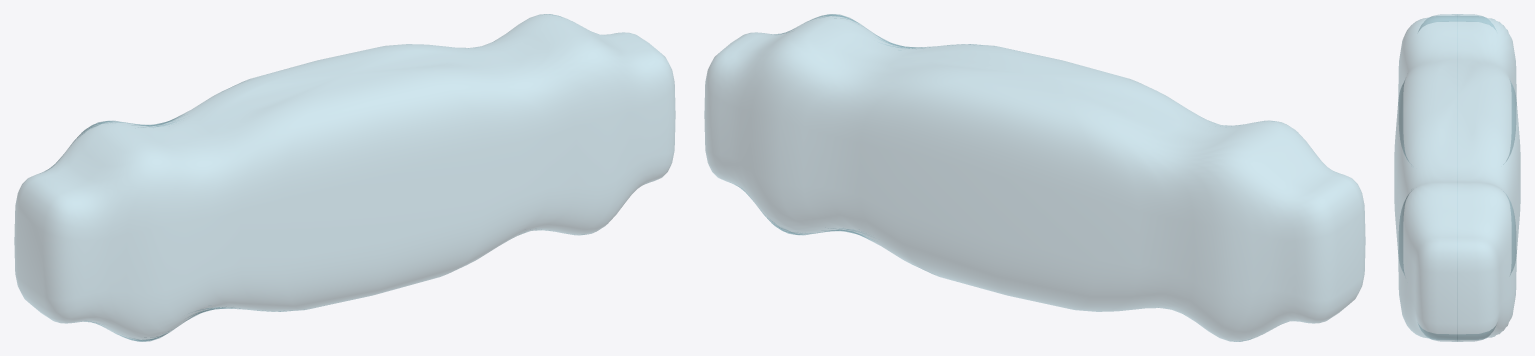
The picture shows the model from 3 angles, left to right: view 1: azimuth 30°, elevation 25°; view 2: azimuth 150°, elevation 25°; view 3: azimuth 270°, elevation 25°; orthographic projection. The views are drawn at different scales.
Visible parts, largest first — view 1: gel-body; view 2: gel-body; view 3: gel-body.
Boxes of the visible parts, <box> form: gel-body: <box>14,14,675,341</box>; gel-body: <box>704,14,1365,341</box>; gel-body: <box>1394,14,1520,341</box>.
Size of the model in its own units: 3 by 0.9408 by 0.6634.
